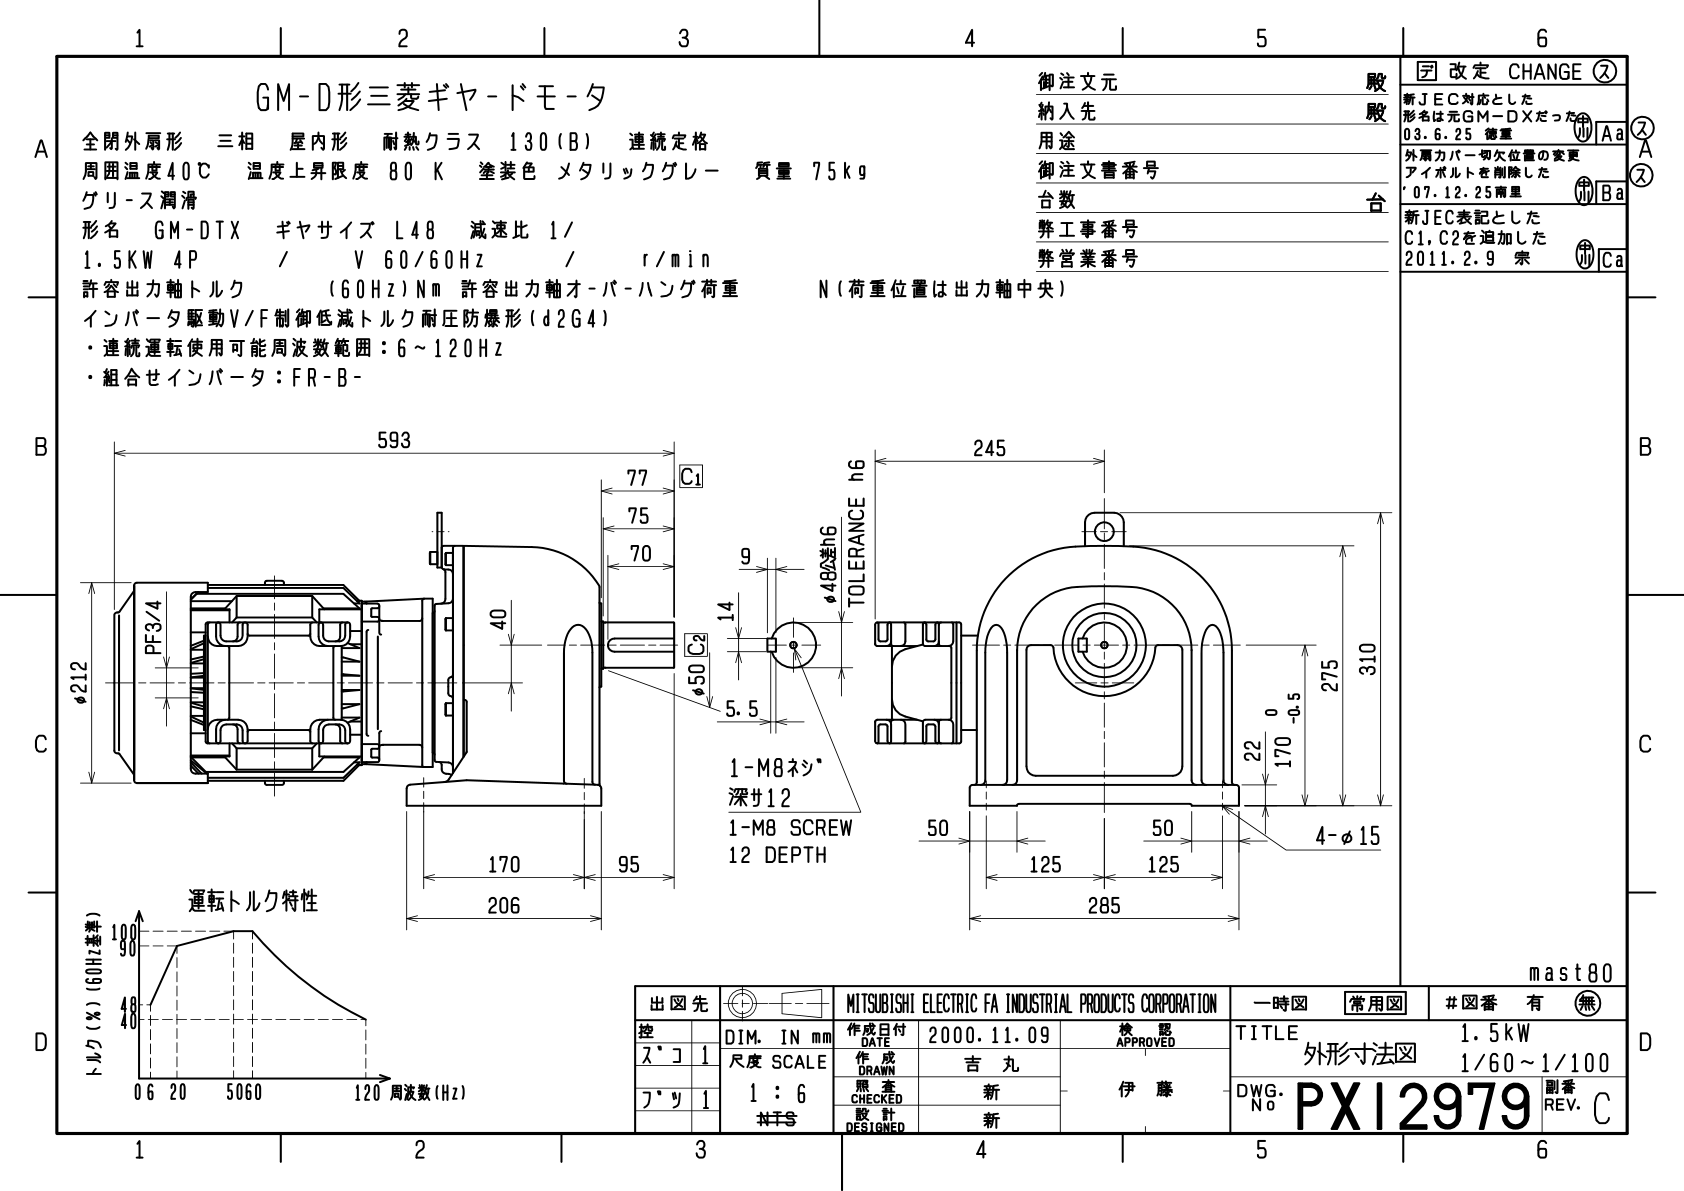GM_D_VF制御屋内_三相_脚: (58, 400, 1393, 980)
